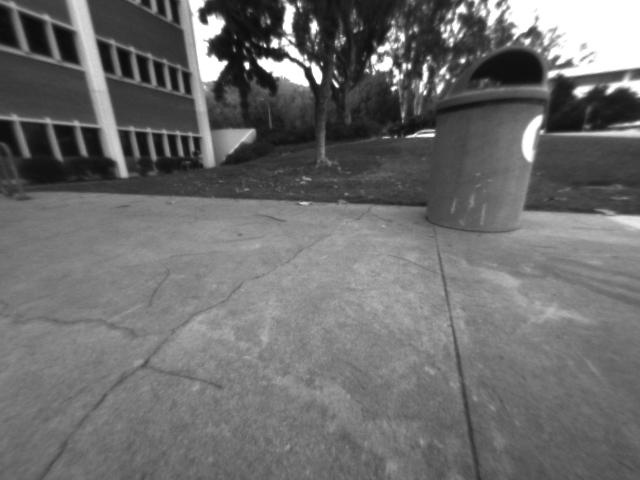trashcan: (424, 39, 556, 241)
